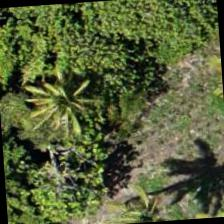Kelapa_Sawit: (14, 56, 110, 152), (98, 164, 194, 223)
